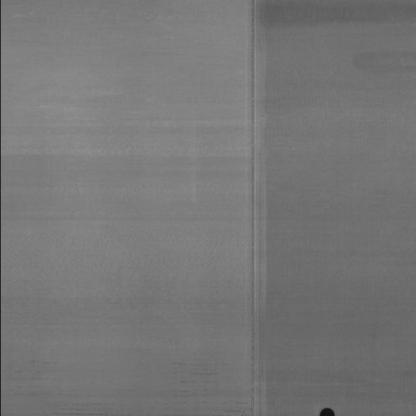punching_hole: (314, 405, 339, 416)
welding_line: (241, 1, 278, 416)
